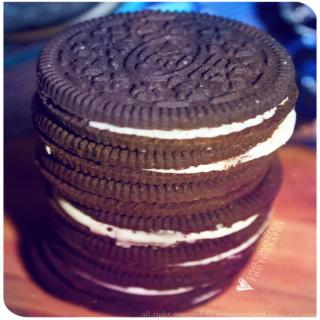Cookie: (25, 7, 302, 319)
